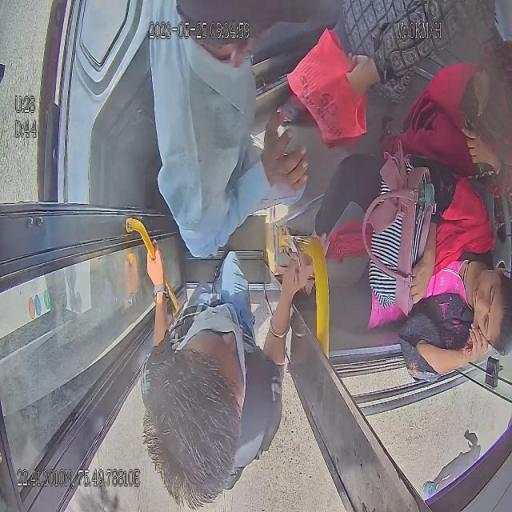persona: (139, 235, 316, 509), (309, 145, 511, 381), (150, 1, 307, 243), (380, 39, 510, 189), (321, 2, 494, 103)
